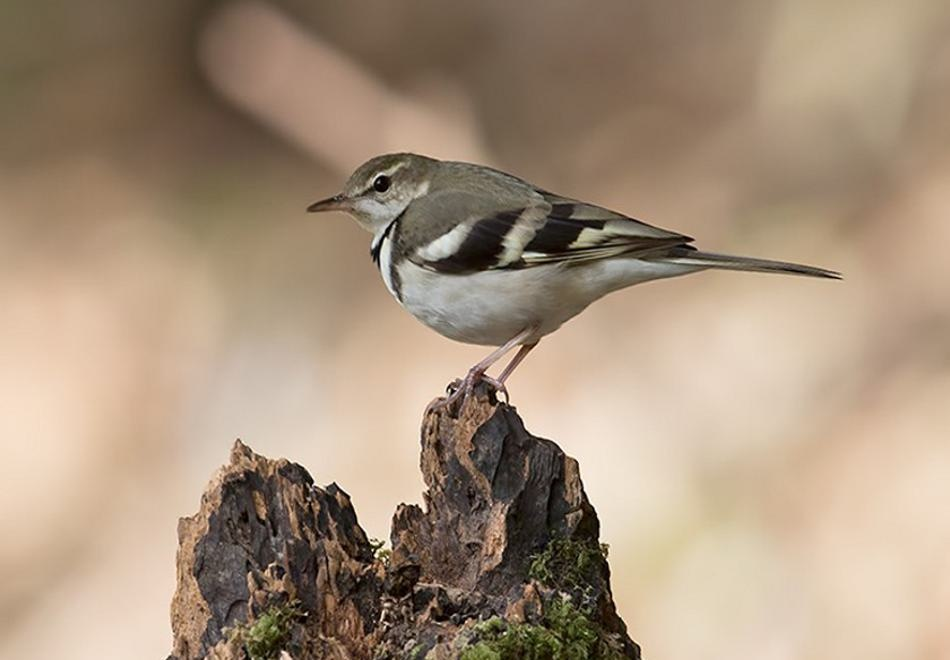wagtail: (303, 136, 778, 423)
